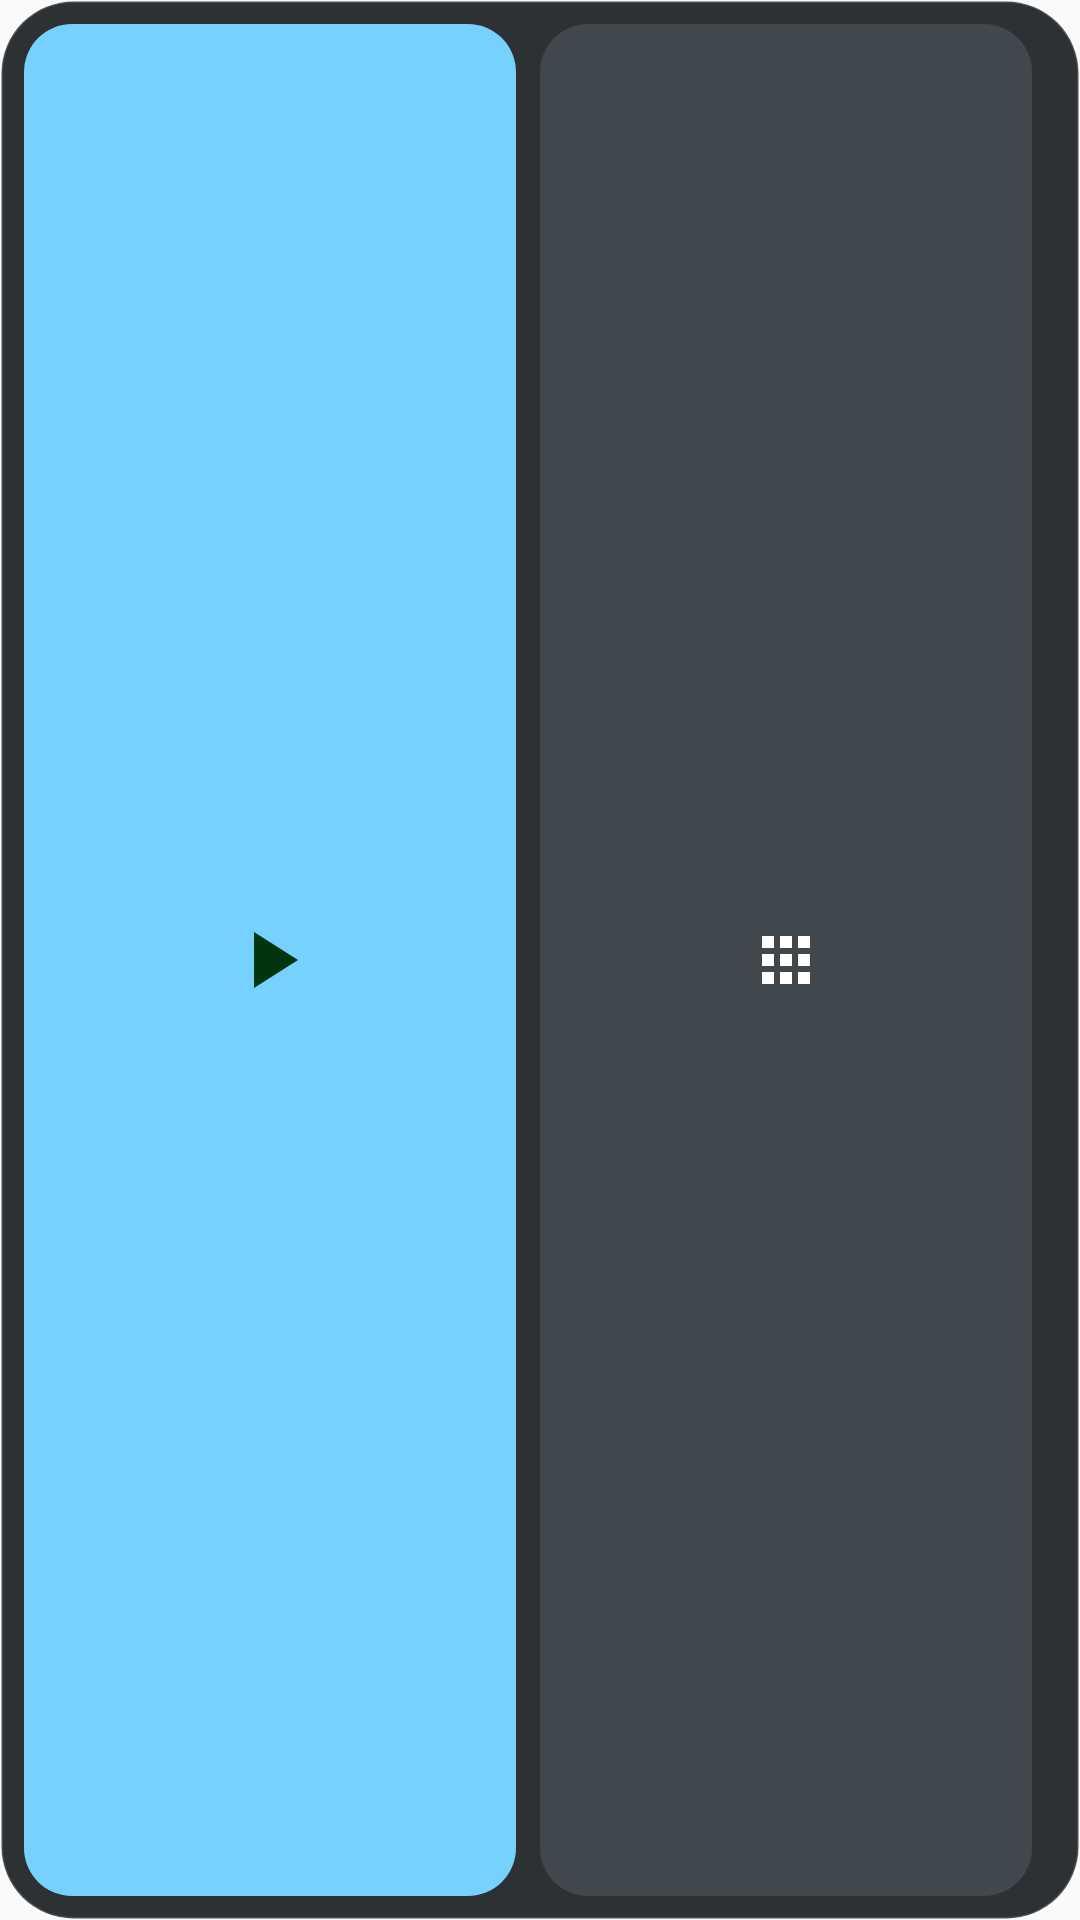

Where to tap for icons on this 1080px x 1920px app screen, as [x,y]:
play: [276,960]
